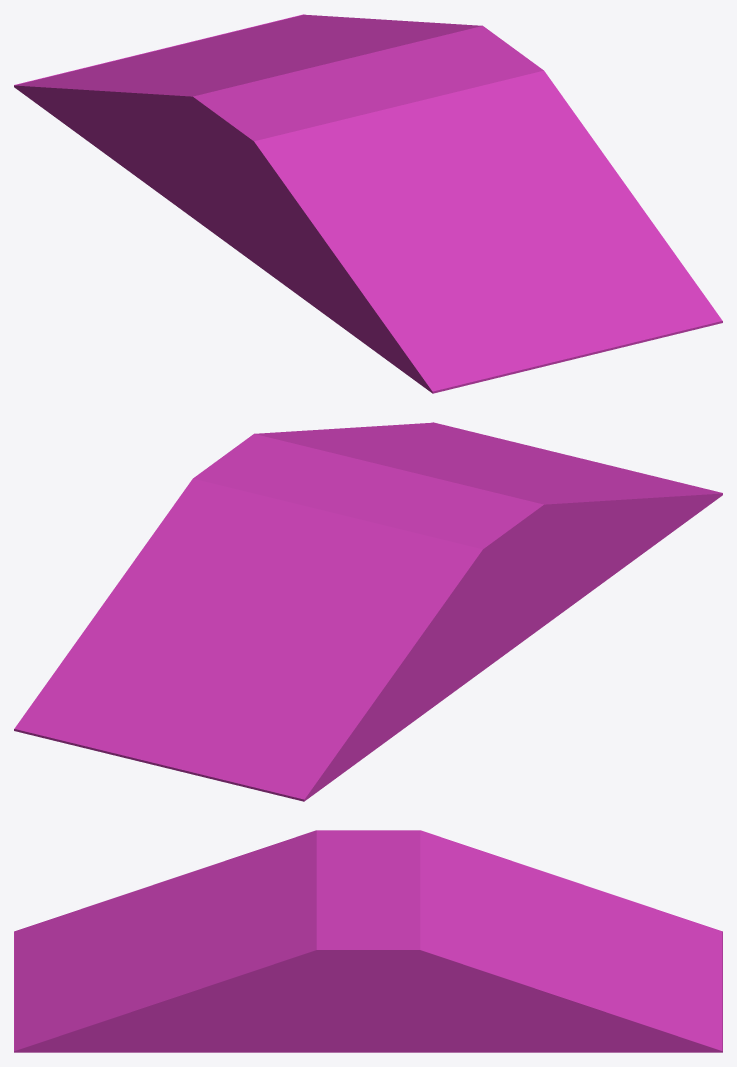
The model's file is ramp_y_500cm_z_80cm.dae.
The picture shows the model from 3 angles, top to bottom: view 1: azimuth 30°, elevation 25°; view 2: azimuth 150°, elevation 25°; view 3: azimuth 270°, elevation 25°; orthographic projection. The views are drawn at different scales.
Visible parts, largest first — view 1: Cube; view 2: Cube; view 3: Cube.
Part boxes in pixels (x1=…): Cube: x1=14, y1=14, x2=722, y2=393; Cube: x1=14, y1=422, x2=722, y2=801; Cube: x1=14, y1=830, x2=722, y2=1052.
Size of the model in its own units: 2 by 5 by 0.8.
